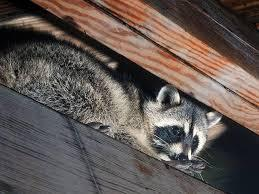raccoon: (0, 33, 229, 173)
